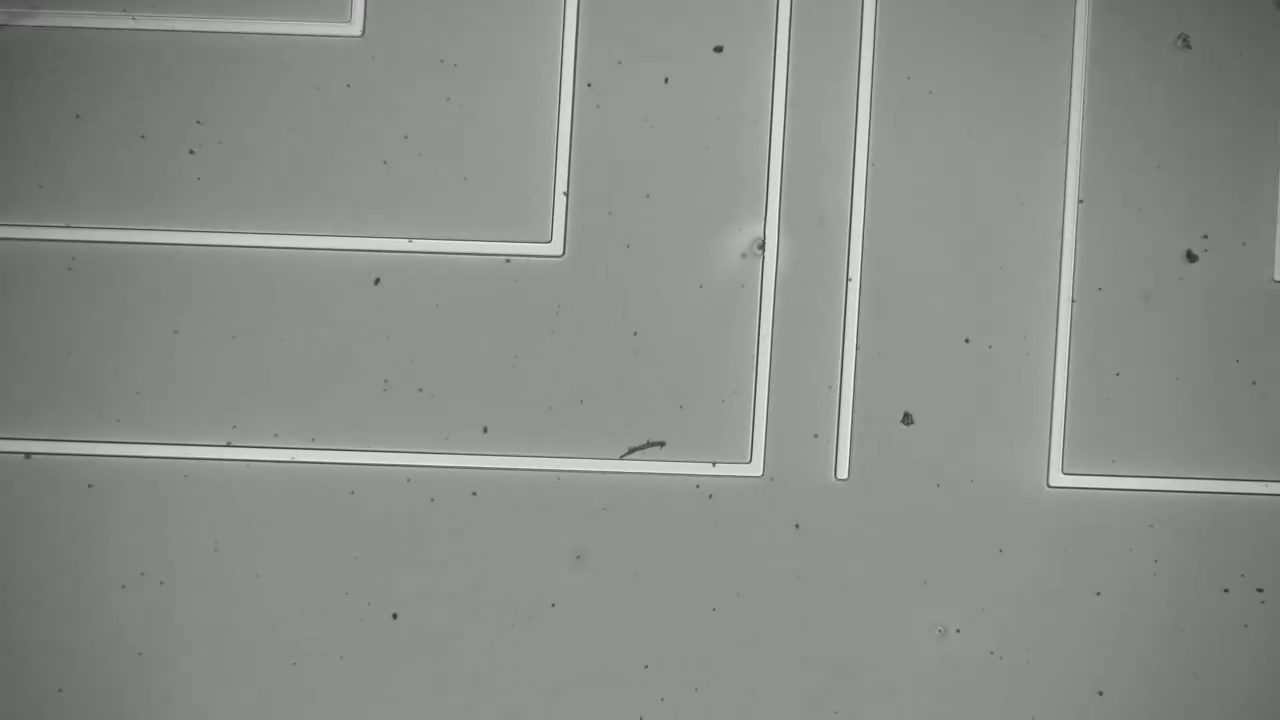stains_enbedded: (753, 233, 779, 259)
